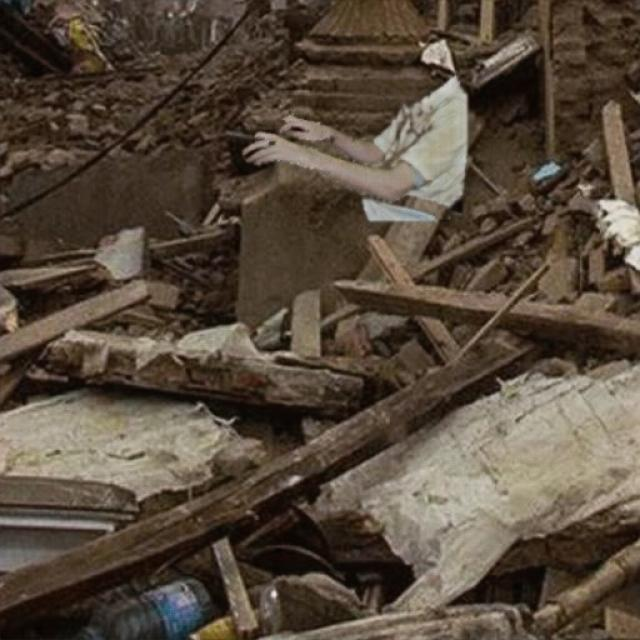Person in Rubble: (243, 75, 467, 220)
